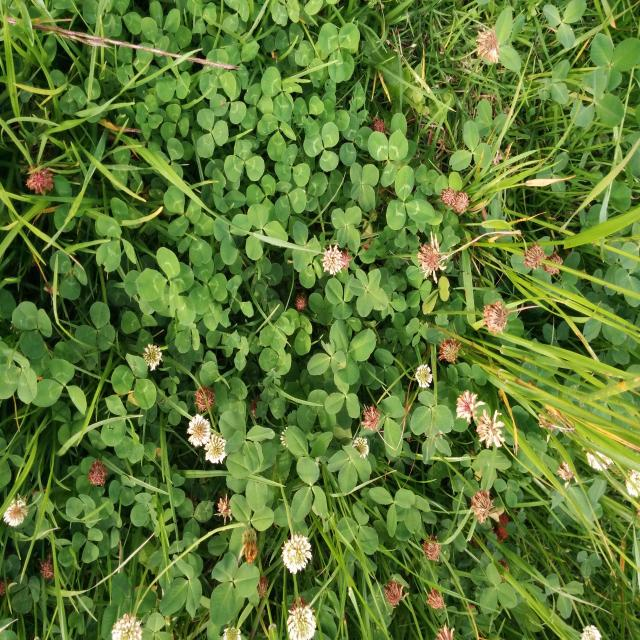Four Leaf Clover: (327, 445, 372, 494), (349, 269, 388, 317), (331, 208, 360, 252), (351, 163, 379, 205)
